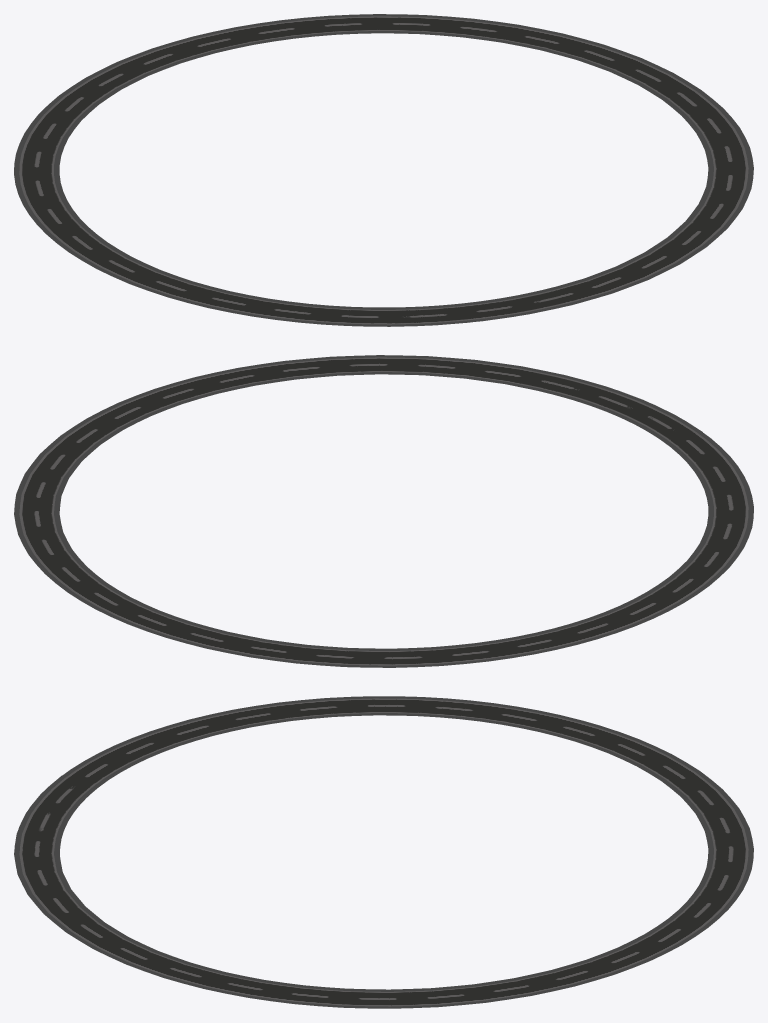
Rendered from TrackCircle.glb.
The picture shows the model from 3 angles, top to bottom: view 1: azimuth 30°, elevation 25°; view 2: azimuth 150°, elevation 25°; view 3: azimuth 270°, elevation 25°; orthographic projection.
Visible parts, largest first — view 1: Track; view 2: Track; view 3: Track.
Part boxes in pixels (x1,y1,x2,y2): Track: (14, 14, 753, 326); Track: (14, 355, 753, 667); Track: (14, 696, 753, 1008).
Size of the model in its own units: 12.97 by 2.98e-08 by 12.97.
Materials: 2 (1 with a texture image).
